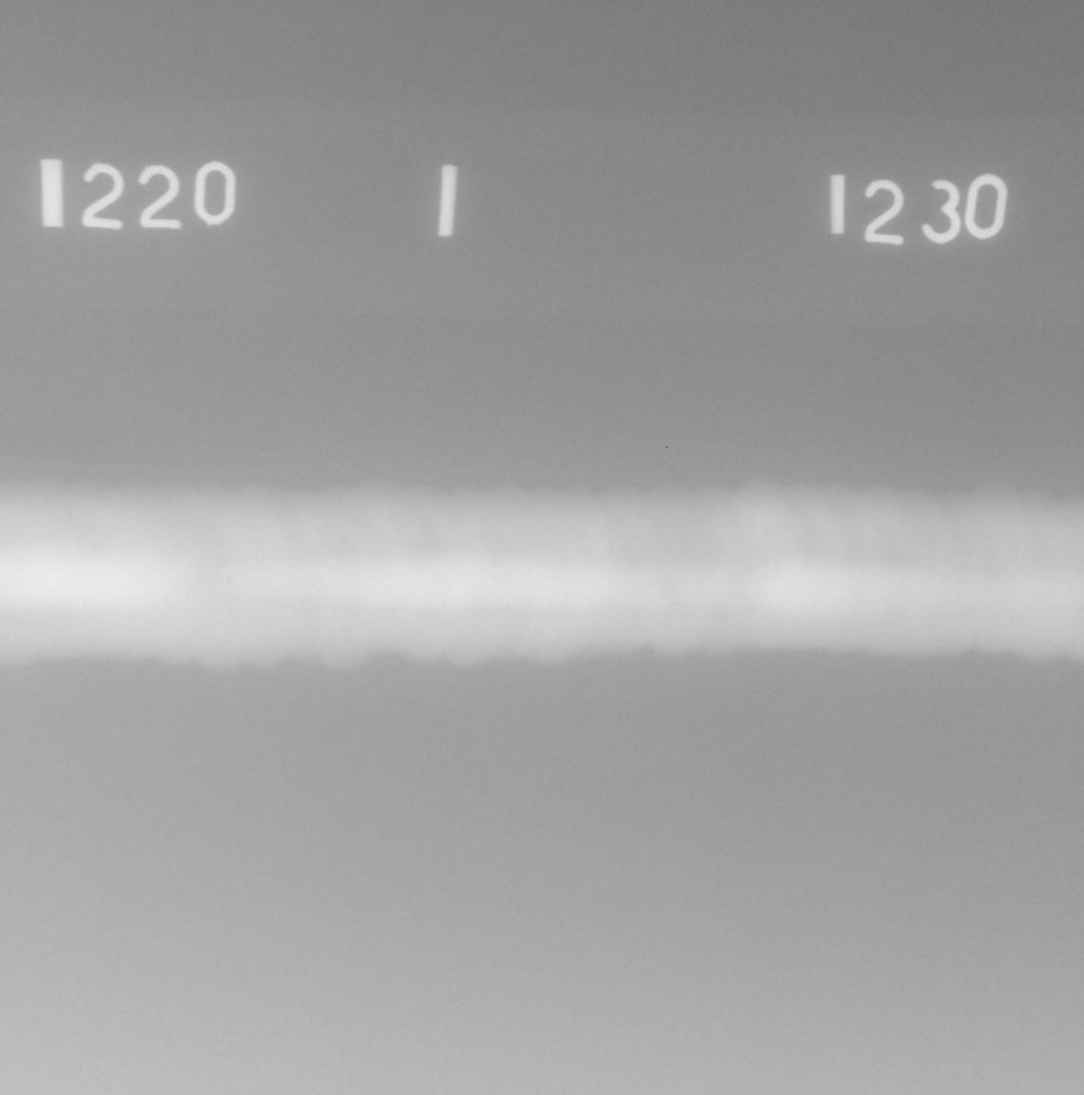Pore/Porosity: (225, 576, 235, 584)
